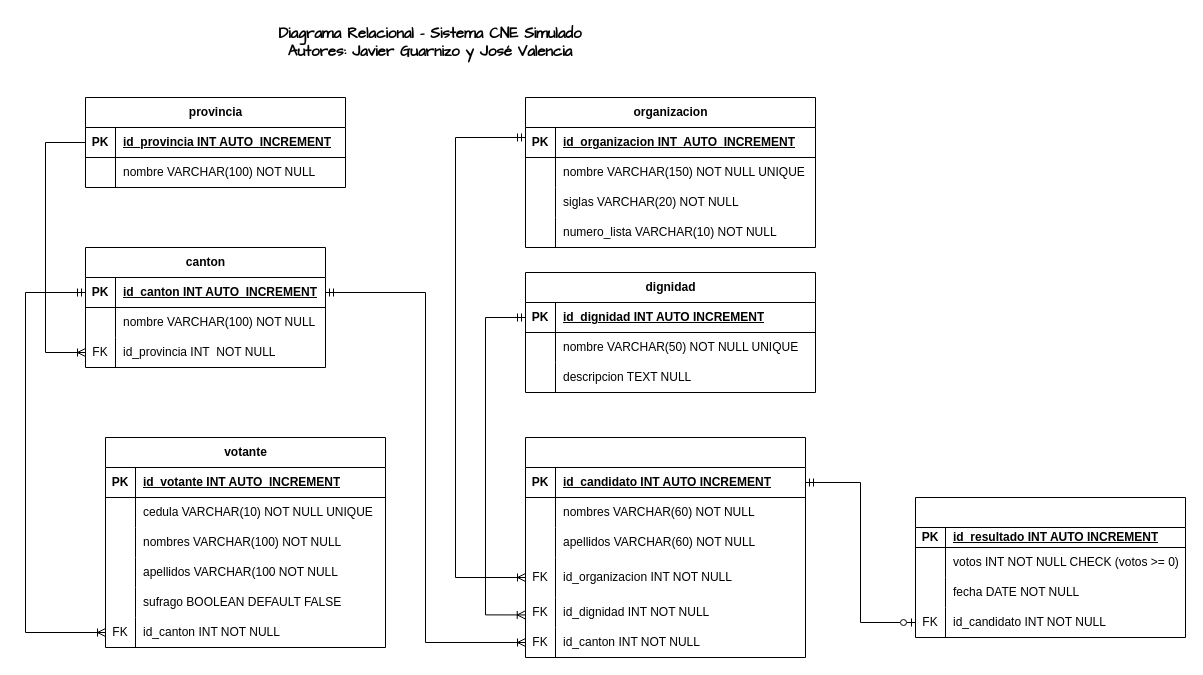
Some shapes in this 1203 by 675 pixel diagram are drawn without their labels. Each missing label, with the box of its shape:
candidatos: (524, 436, 806, 658)
resultados: (914, 496, 1186, 638)
